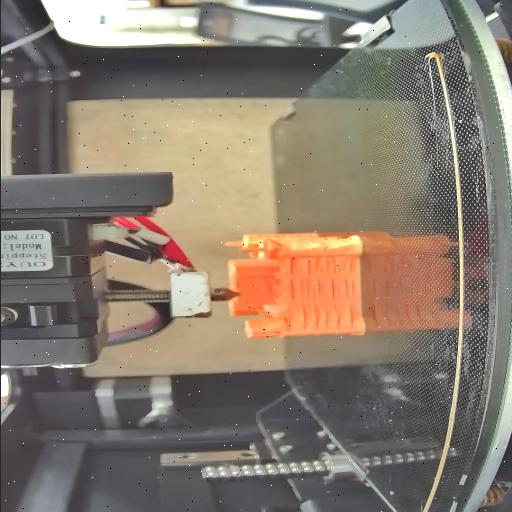cracks: (298, 302, 356, 330), (304, 256, 352, 274), (284, 278, 320, 300), (328, 278, 356, 299), (284, 256, 299, 275), (279, 314, 287, 328)
